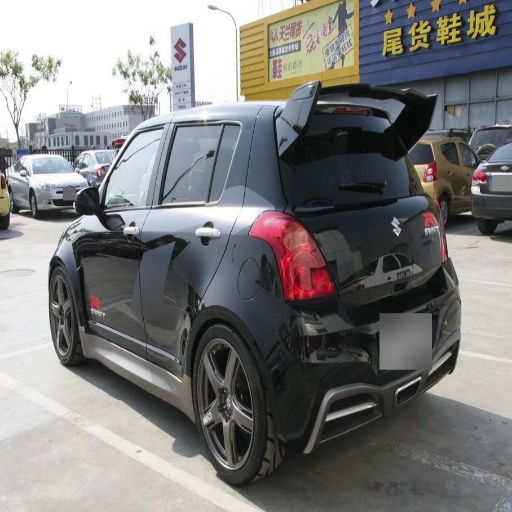back_bumper: (259, 275, 455, 447)
back_left_door: (141, 123, 242, 376)
trunk: (323, 227, 439, 318)
